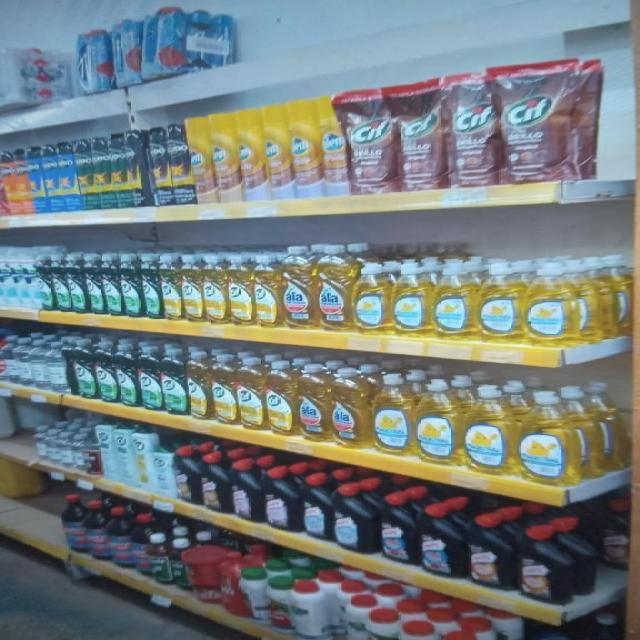ala_conc_amarillo: (332, 367, 370, 447), (317, 244, 351, 332), (283, 245, 315, 330), (298, 363, 330, 443)
cif_conc_bot_amarilla: (266, 358, 297, 436), (237, 356, 264, 431), (254, 253, 280, 328), (227, 254, 253, 328), (212, 352, 235, 427), (203, 253, 227, 324), (187, 349, 210, 422), (182, 254, 202, 324), (160, 253, 180, 320)
cif_conc_botella_verde: (161, 346, 186, 415), (138, 344, 160, 412), (116, 341, 136, 407), (95, 339, 115, 403), (141, 253, 160, 319), (121, 253, 140, 318), (102, 252, 120, 316), (69, 253, 85, 313)
magistral_con_amarillo: (518, 389, 576, 487), (464, 383, 515, 476), (526, 260, 574, 346), (416, 378, 461, 467), (479, 260, 523, 344), (433, 257, 476, 341), (373, 373, 413, 457), (392, 259, 431, 338), (353, 260, 390, 336)
